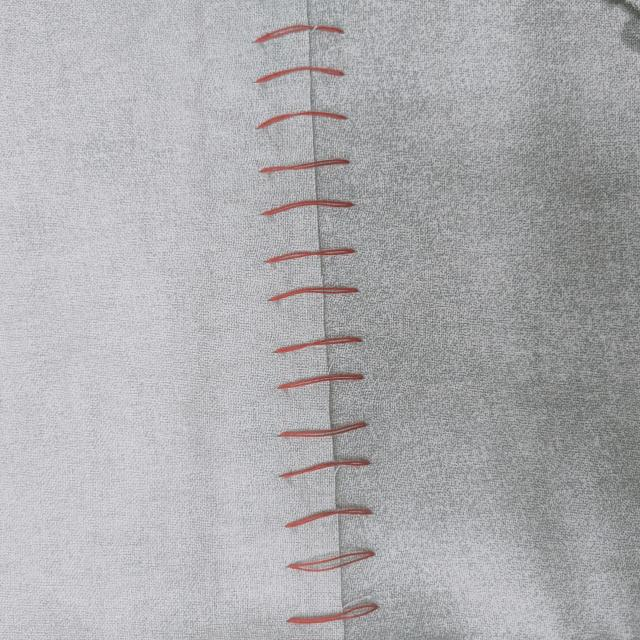gray stitch: (246, 7, 386, 636)
